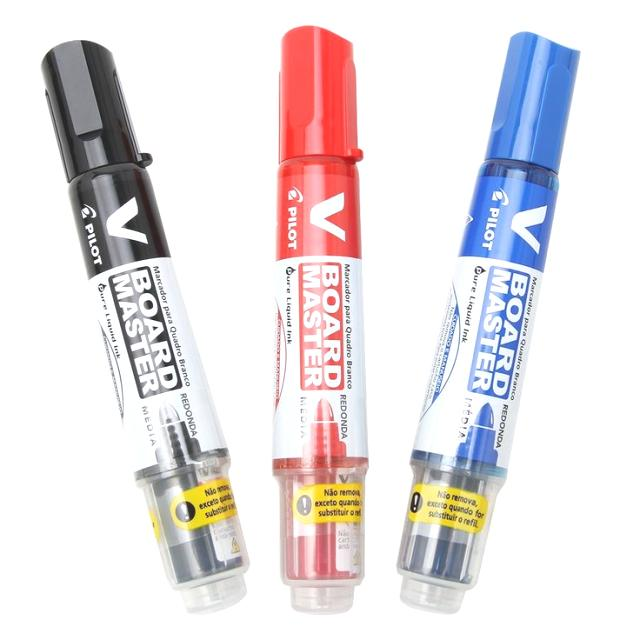B3: (37, 44, 549, 601)
